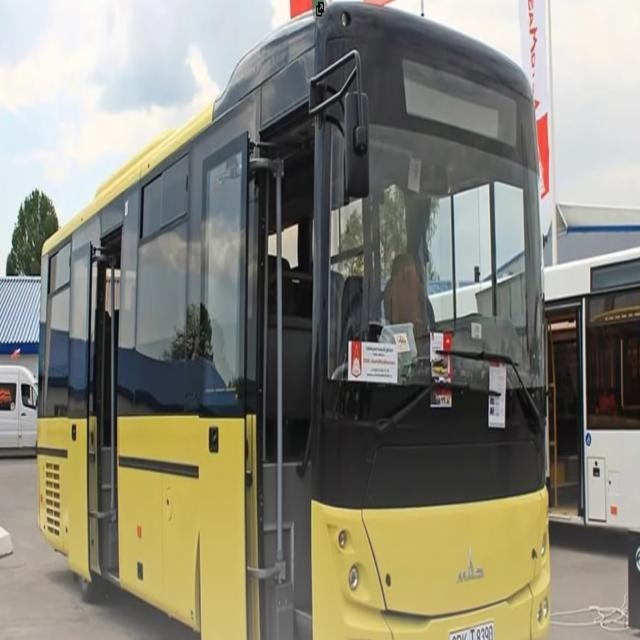Bus: (39, 0, 553, 640), (427, 230, 640, 554)
